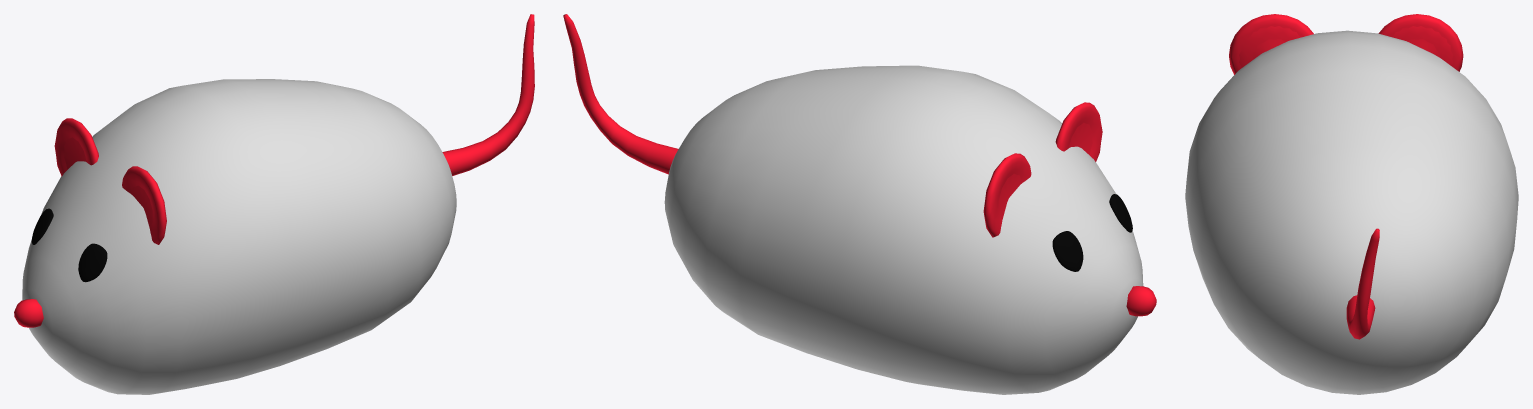
The picture shows the model from 3 angles, left to right: view 1: azimuth 30°, elevation 25°; view 2: azimuth 150°, elevation 25°; view 3: azimuth 270°, elevation 25°; orthographic projection. The views are drawn at different scales.
Visible parts, largest first — view 1: Body, Tail, Cylinder, Cylinder.001, L.Eye, Nose; view 2: Body, Tail, Cylinder.001, Cylinder, R.Eye, Nose; view 3: Body, Cylinder, Cylinder.001, Tail.
Part boxes in pixels (x1=…): Body: x1=22, y1=79, x2=456, y2=394; Tail: x1=442, y1=14, x2=534, y2=175; Cylinder: x1=122, y1=166, x2=166, y2=244; Cylinder.001: x1=54, y1=118, x2=98, y2=176; L.Eye: x1=78, y1=243, x2=107, y2=282; Nose: x1=14, y1=299, x2=43, y2=327; Body: x1=664, y1=65, x2=1143, y2=394; Tail: x1=563, y1=14, x2=678, y2=174; Cylinder.001: x1=983, y1=153, x2=1031, y2=237; Cylinder: x1=1055, y1=102, x2=1102, y2=161; R.Eye: x1=1052, y1=231, x2=1083, y2=271; Nose: x1=1126, y1=286, x2=1156, y2=316; Body: x1=1185, y1=30, x2=1518, y2=394; Cylinder: x1=1229, y1=14, x2=1313, y2=74; Cylinder.001: x1=1378, y1=14, x2=1463, y2=71; Tail: x1=1346, y1=228, x2=1379, y2=339.
Size of the model in its own units: 0.0316 by 0.0151 by 0.0157.
